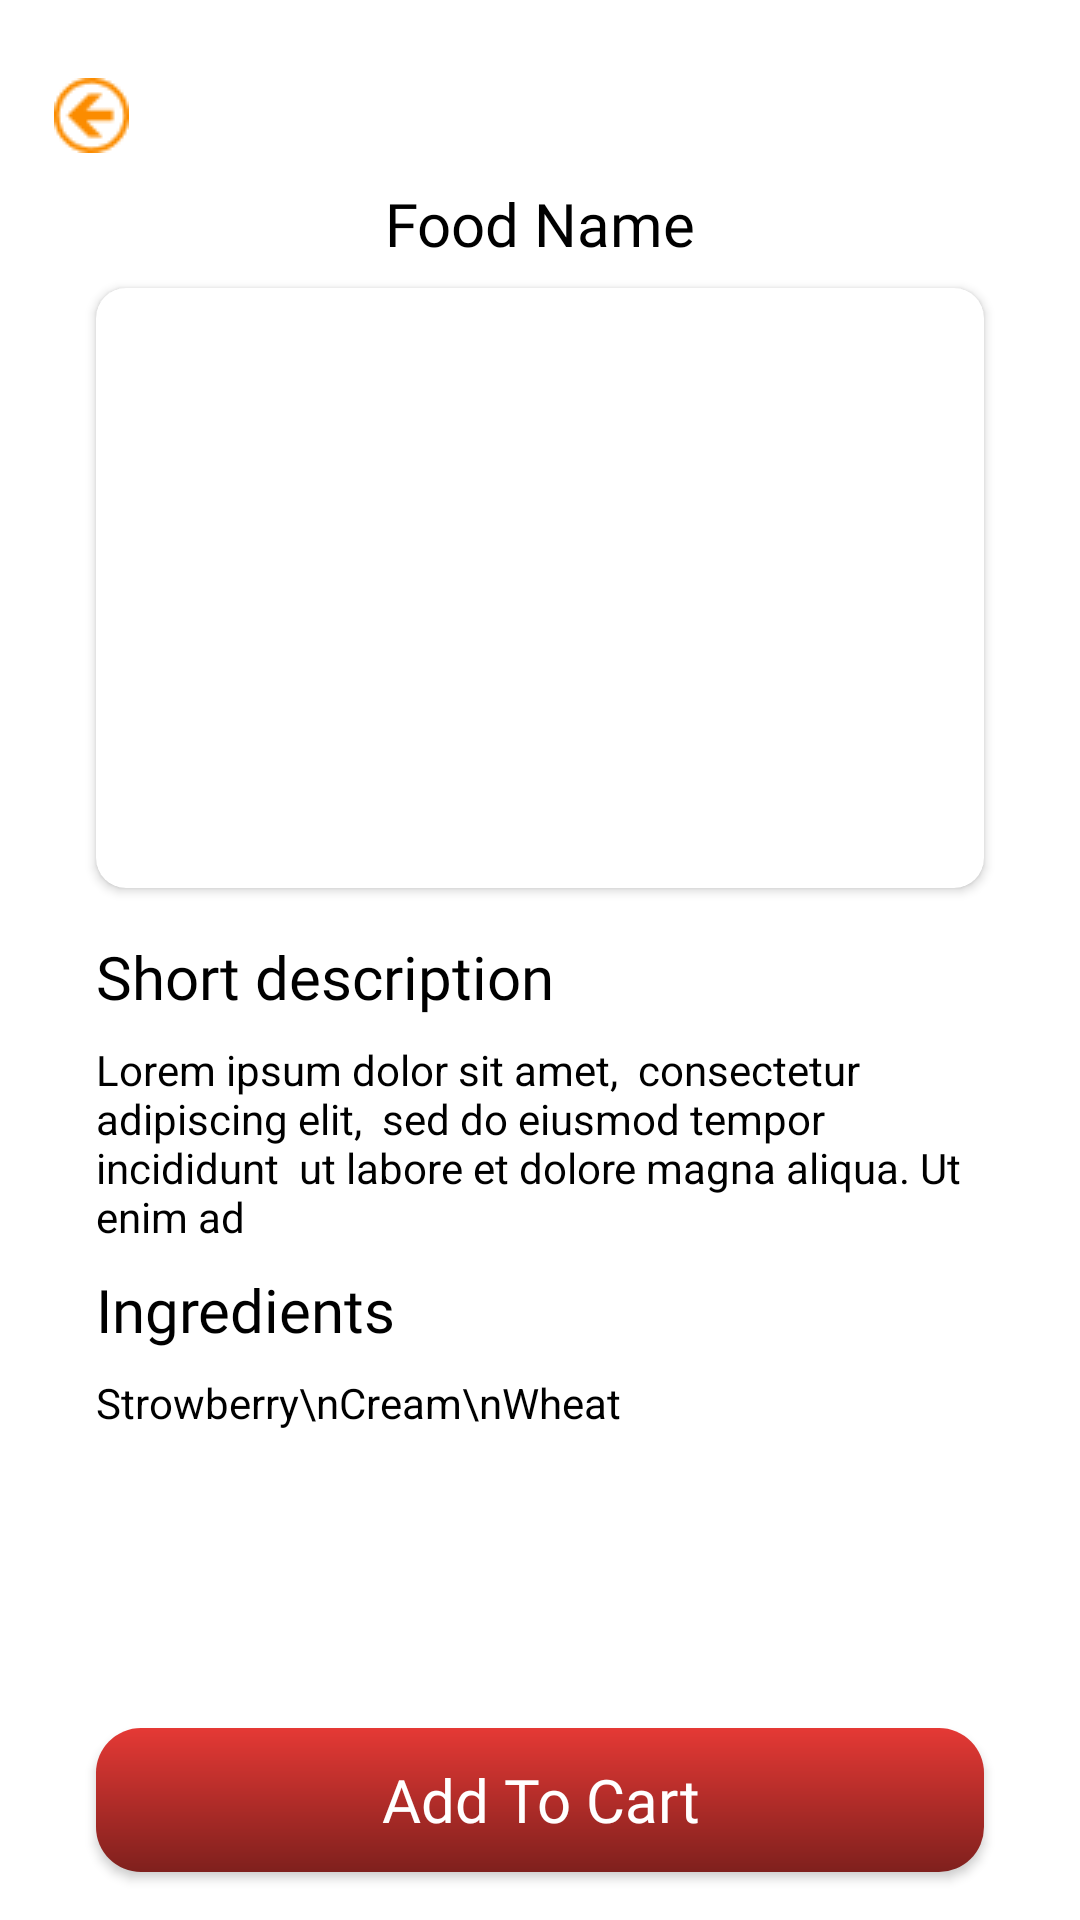

Point at icon controls on the screen. Image size 1080 x 1920, points as (x=x, y=y).
lefteror: (x=91, y=115)
